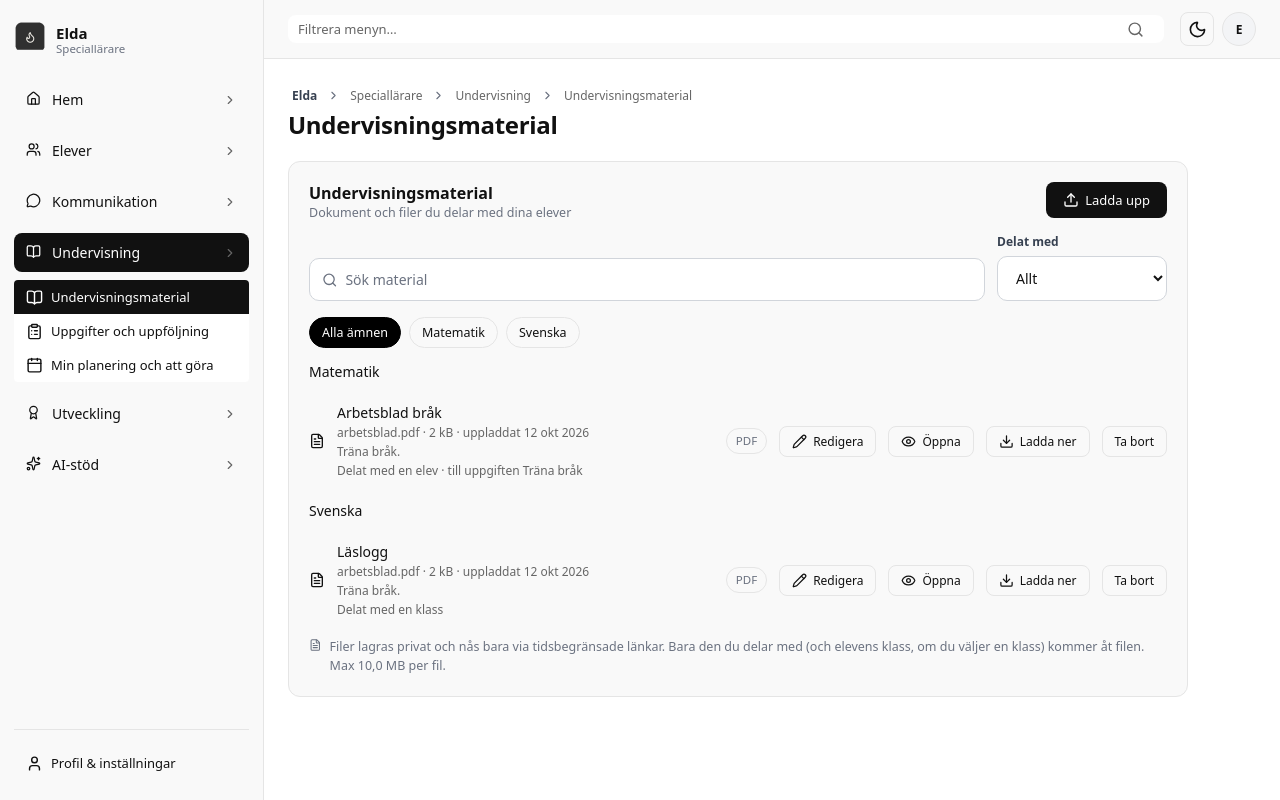
Test: undervisningsmaterial › filtrerar materialet på ämne och mottagare
The image size is (1280, 800).
expect the text "Läslogg" is shown: met, box [337,542,388,561]
Click the button "Svenska". click: (543, 332)
box: [506,317,580,348]
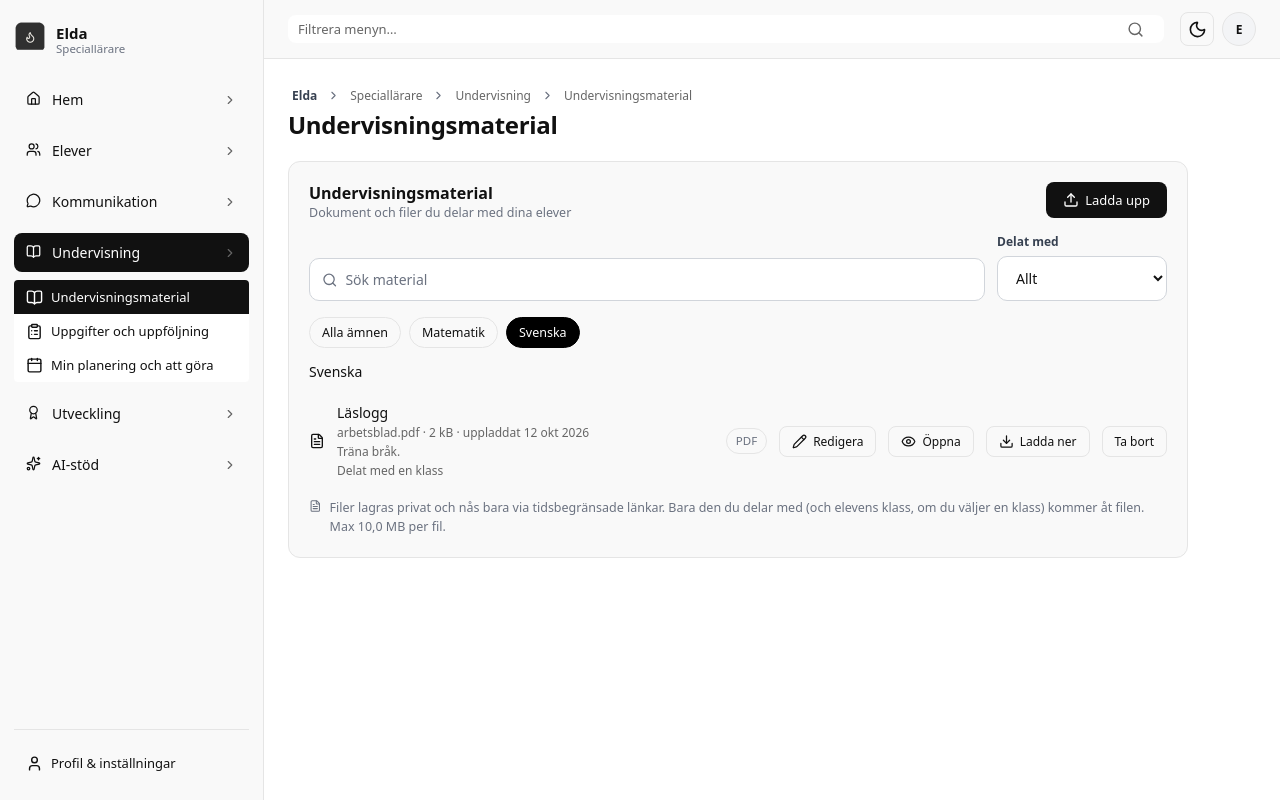
expect the text "Läslogg" is shown: met, box [337,403,388,422]
expect the text "Arbetsblad bråk" is gone: met
Click the button "Alla ämnen". click: (355, 332)
box: [309,317,401,348]
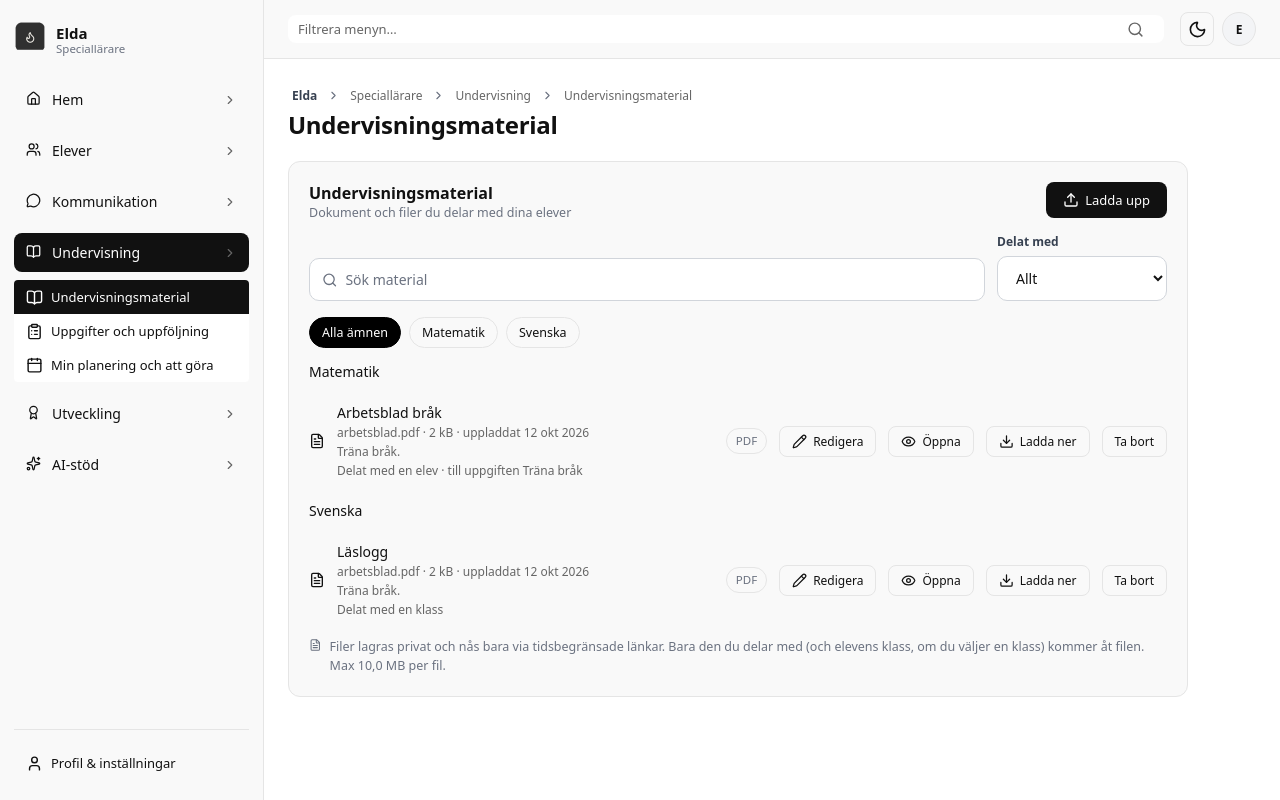
Select "En klass" in the dropdown named "Filtrera på mottagare". click: (1082, 278)
box: [997,256,1167,301]
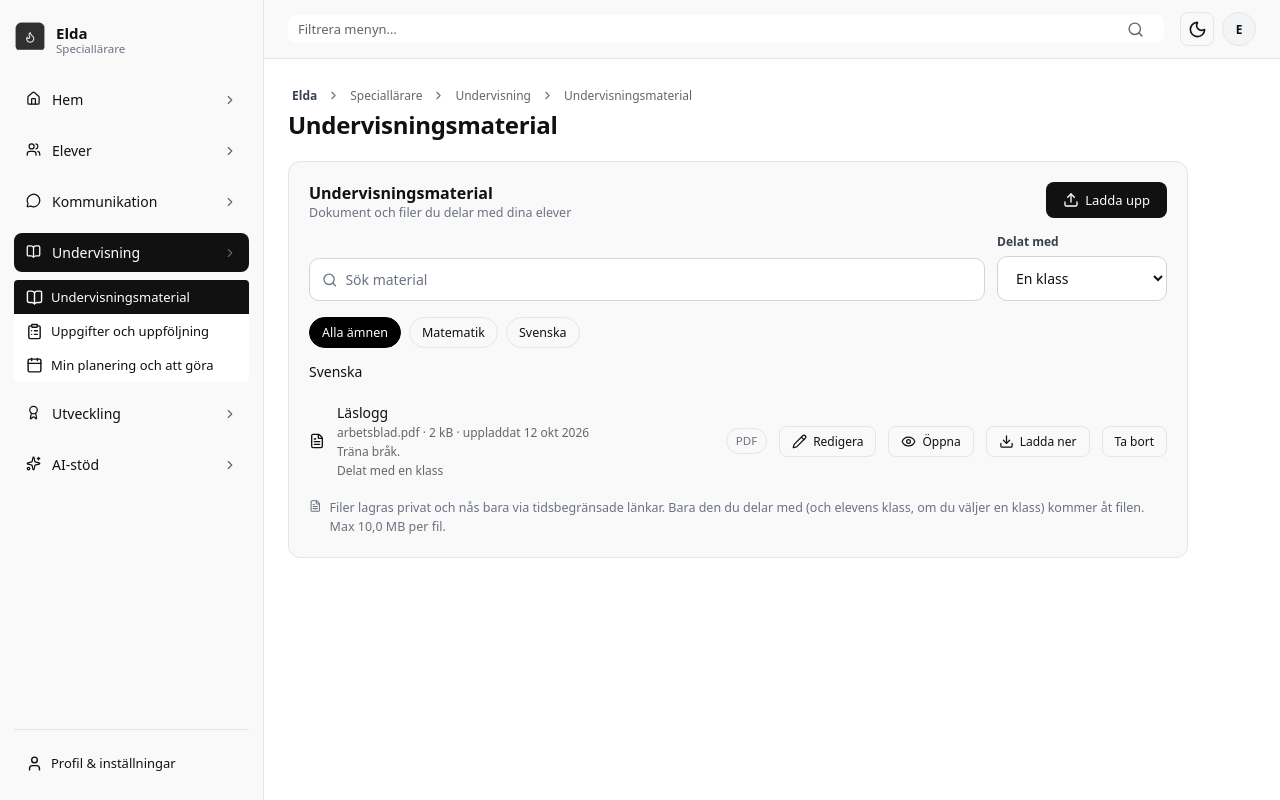
expect the text "Läslogg" is shown: met, box [337,403,388,422]
expect the text "Arbetsblad bråk" is gone: met
